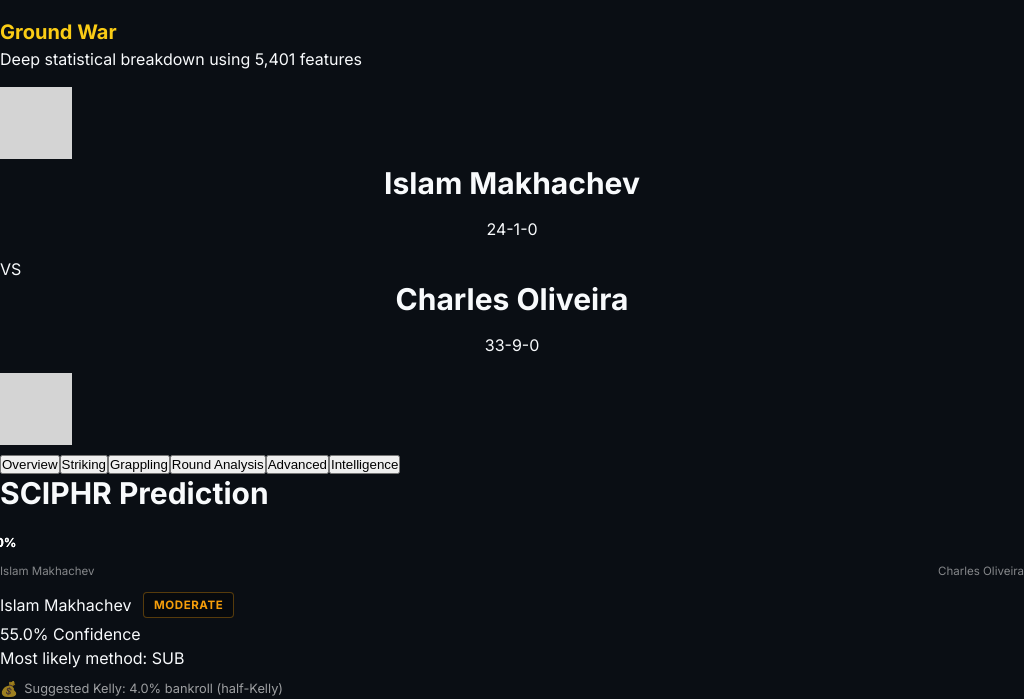
AnalystMode — Intelligence tab › renders kill chain paths
Click the button "Intelligence": [365, 465] box [329, 455, 400, 474]
(page scrolled)
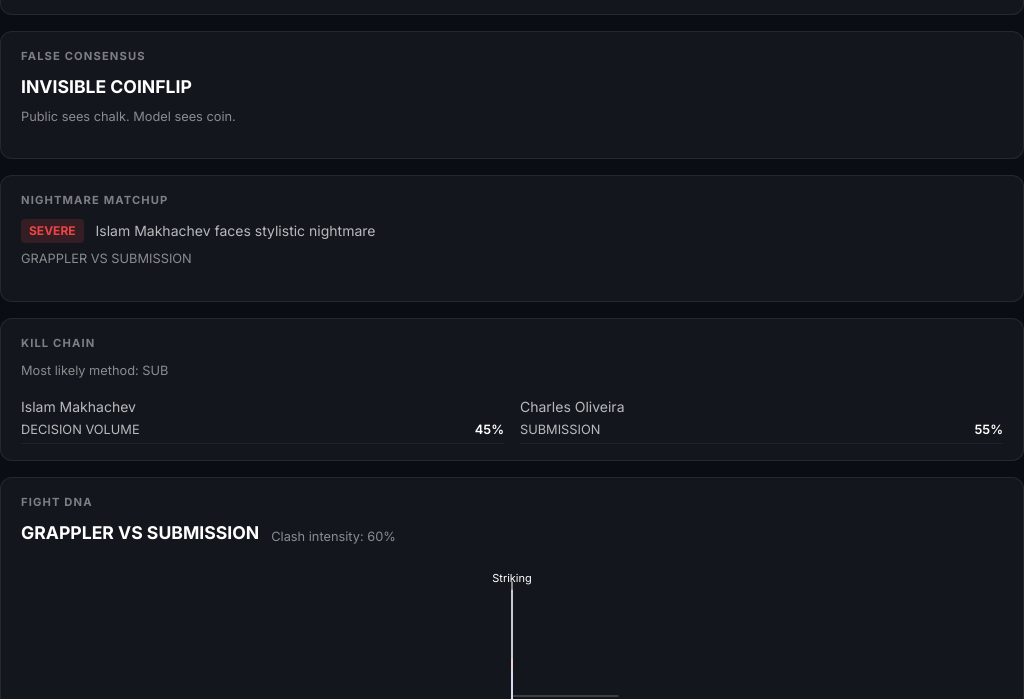
Expected: the text "Kill Chain" is shown, [21, 336, 95, 350]
